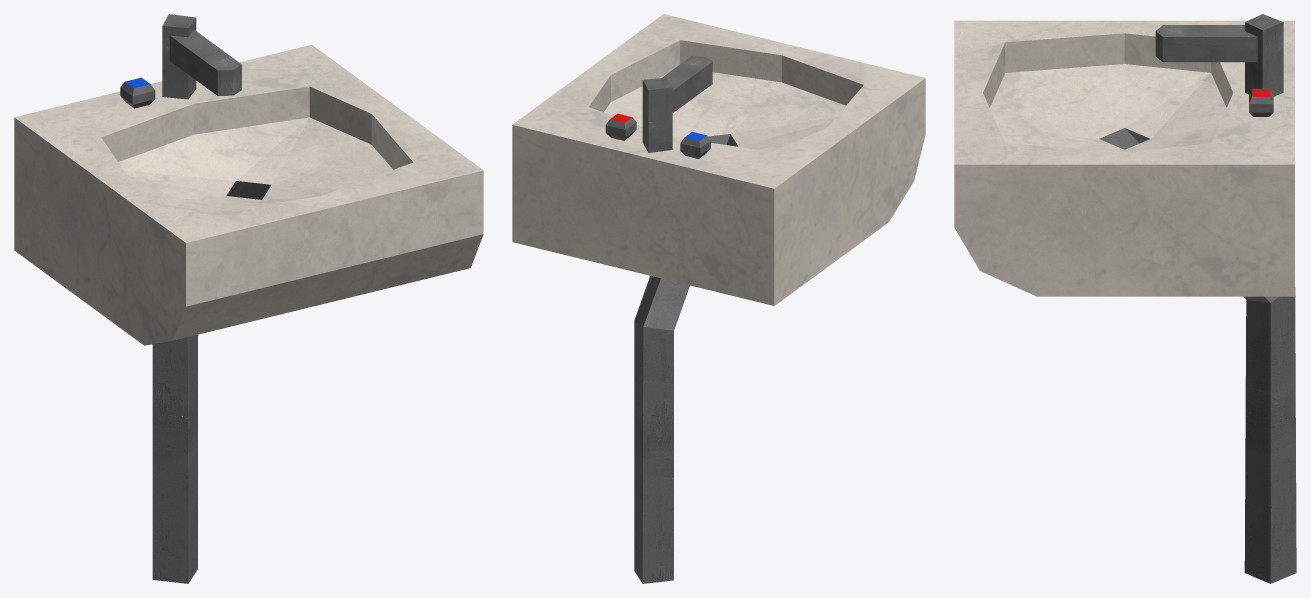
Rendered from lavabo.fbx.
3 renders of one model, left to right at view 1: azimuth 30°, elevation 25°; view 2: azimuth 150°, elevation 25°; view 3: azimuth 270°, elevation 25°, orthographic. The views are drawn at different scales.
Visible parts, largest first — view 1: lavabo; view 2: lavabo; view 3: lavabo.
Part boxes in pixels (left/top/right/bottom): lavabo: left=14, top=14, right=483, bottom=583; lavabo: left=512, top=14, right=925, bottom=583; lavabo: left=954, top=14, right=1296, bottom=583.
Bounding box in the file's own units: 52.44 × 93.53 × 52.66.
